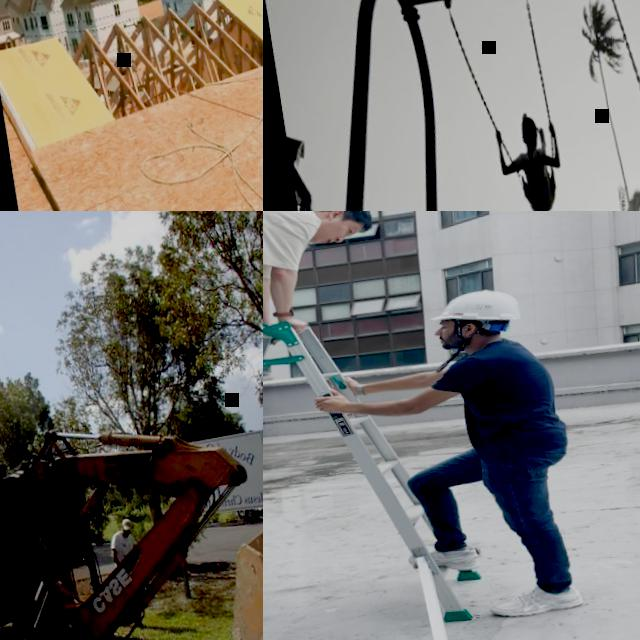helmet: (430, 284, 522, 332)
machinery: (0, 412, 263, 640), (136, 494, 263, 640)
no_helmet: (329, 211, 376, 234), (514, 112, 536, 138), (120, 516, 132, 530)
no_mask: (306, 220, 344, 248), (435, 327, 461, 352), (121, 533, 129, 539)
no_vest: (451, 331, 574, 474), (517, 147, 553, 211), (113, 532, 133, 558)
person: (303, 279, 602, 640), (263, 211, 404, 406), (492, 107, 568, 211), (105, 516, 148, 630)
